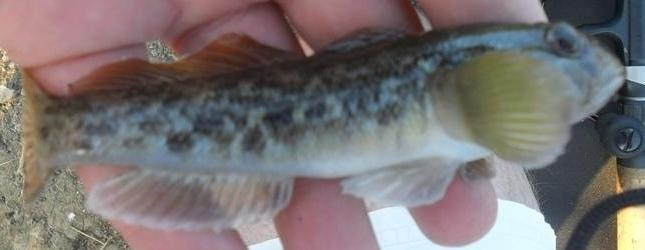Goby: (19, 28, 623, 213)
